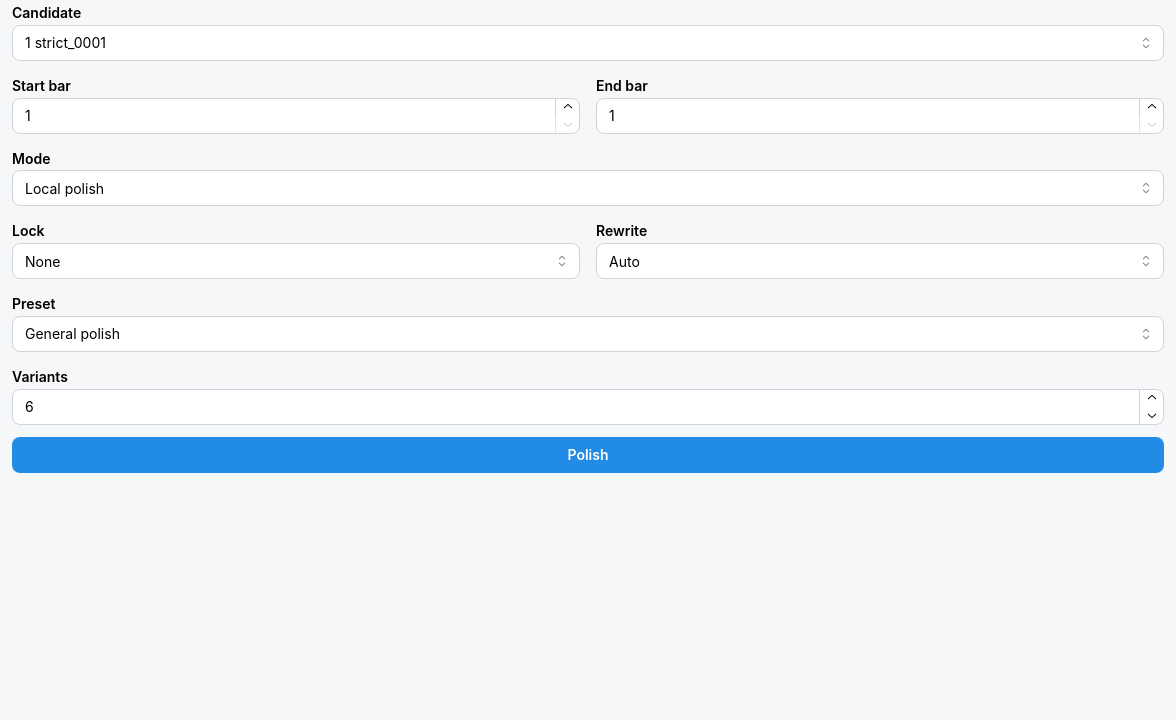
Test case: PhrasePolishPanel › requests polish variants for the selected candidate and displays them
Step 1. Click the button "Polish" → (588, 455), box [12, 437, 1164, 473]
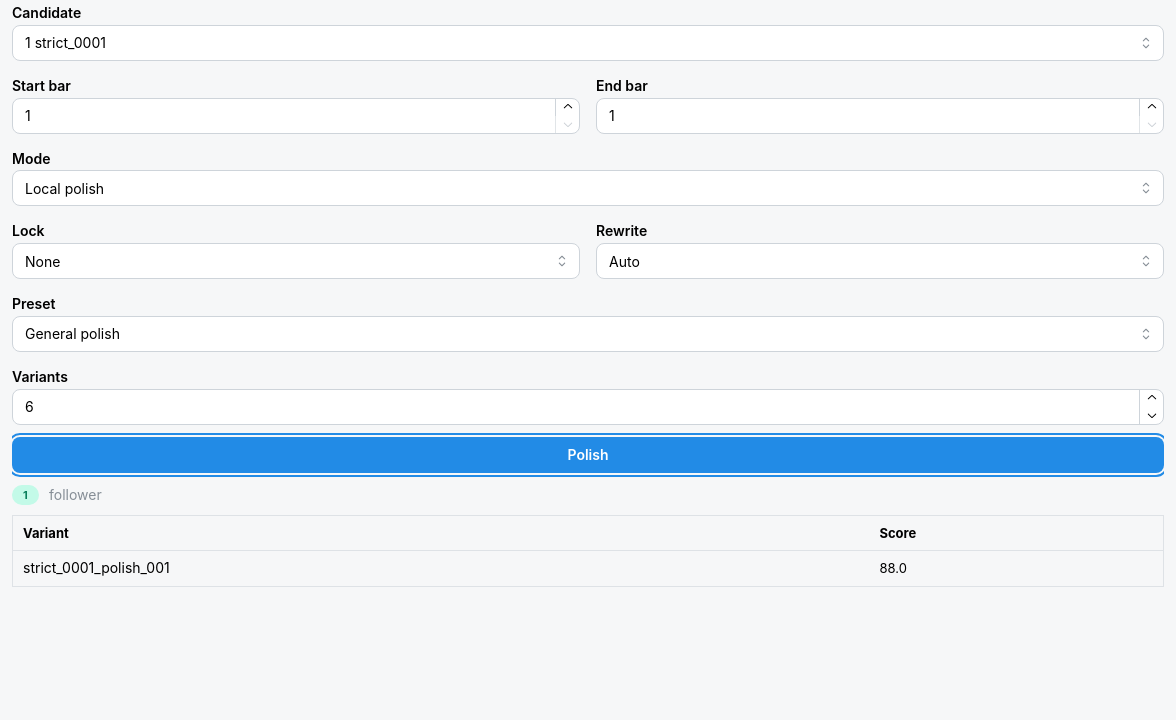
Now the text "strict_0001_polish_001" is shown, box [23, 559, 170, 576]
